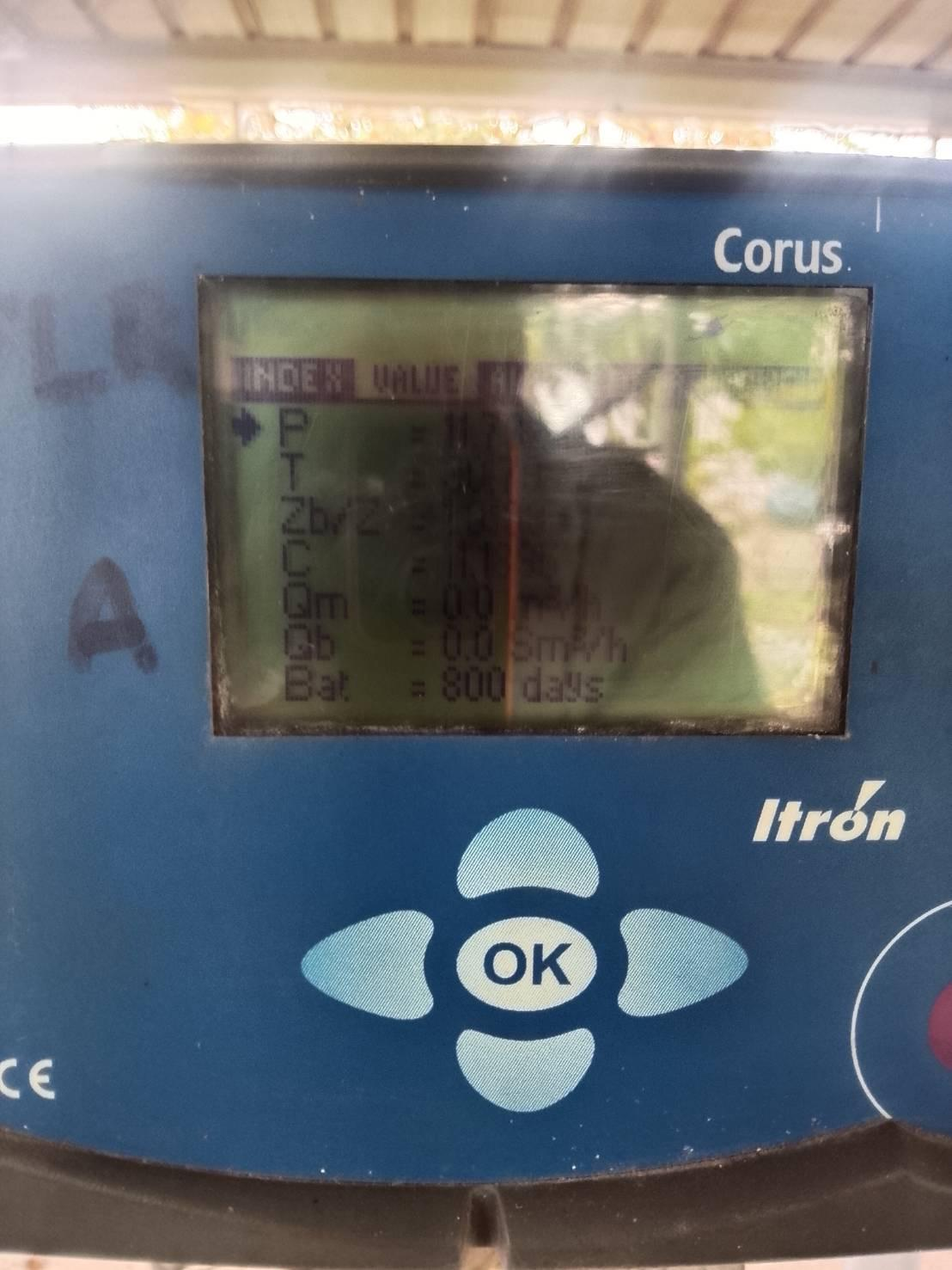digital_screen: (198, 283, 871, 742)
